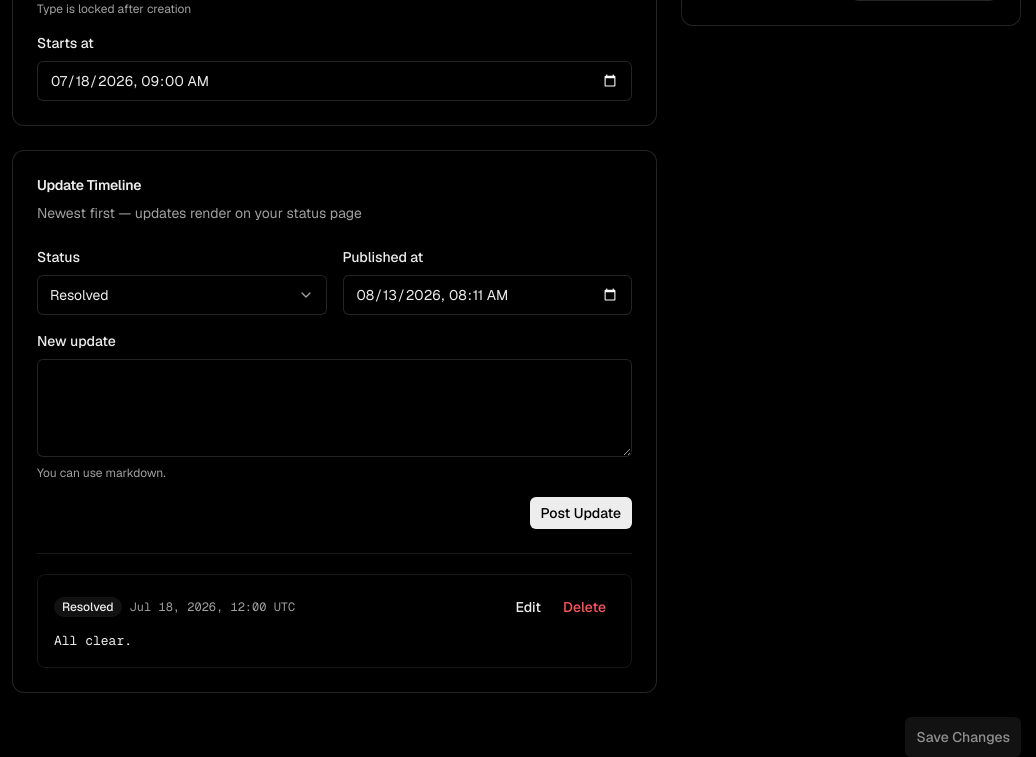
Test: ReportEditor edit mode › surfaces LAST_UPDATE when deleting the only update
This screenshot has width=1036, height=757.
(page scrolled)
Click the button "Delete".
click(584, 607)  # box [554,591,615,623]
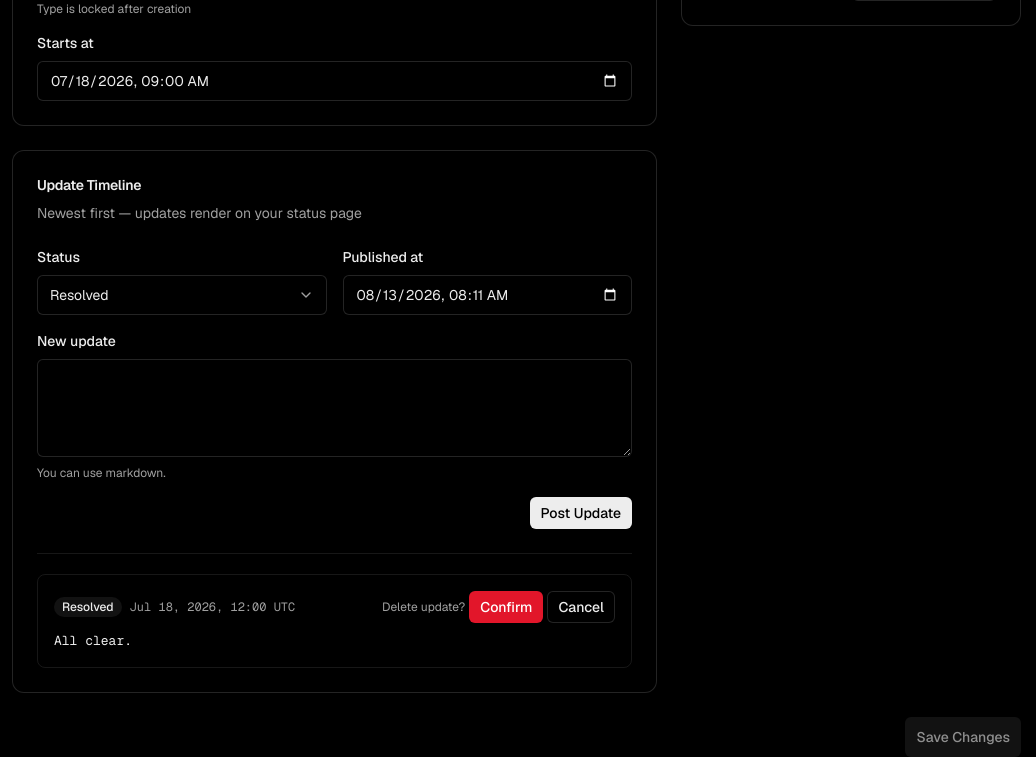
Result: the text "Delete update?" is shown at [382,599,465,615]
Click the button "Confirm".
click(506, 607)  # box [469,591,544,623]
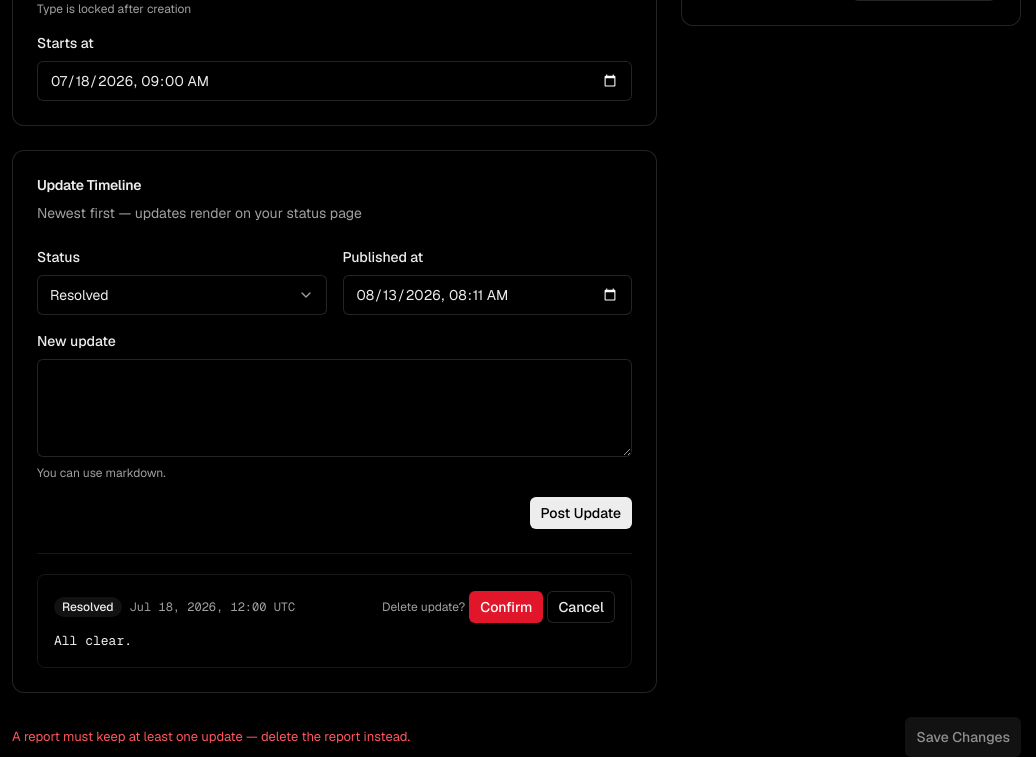
Result: the text "A report must keep at least one update — delete the report instead." is shown at [12,727,410,747]
